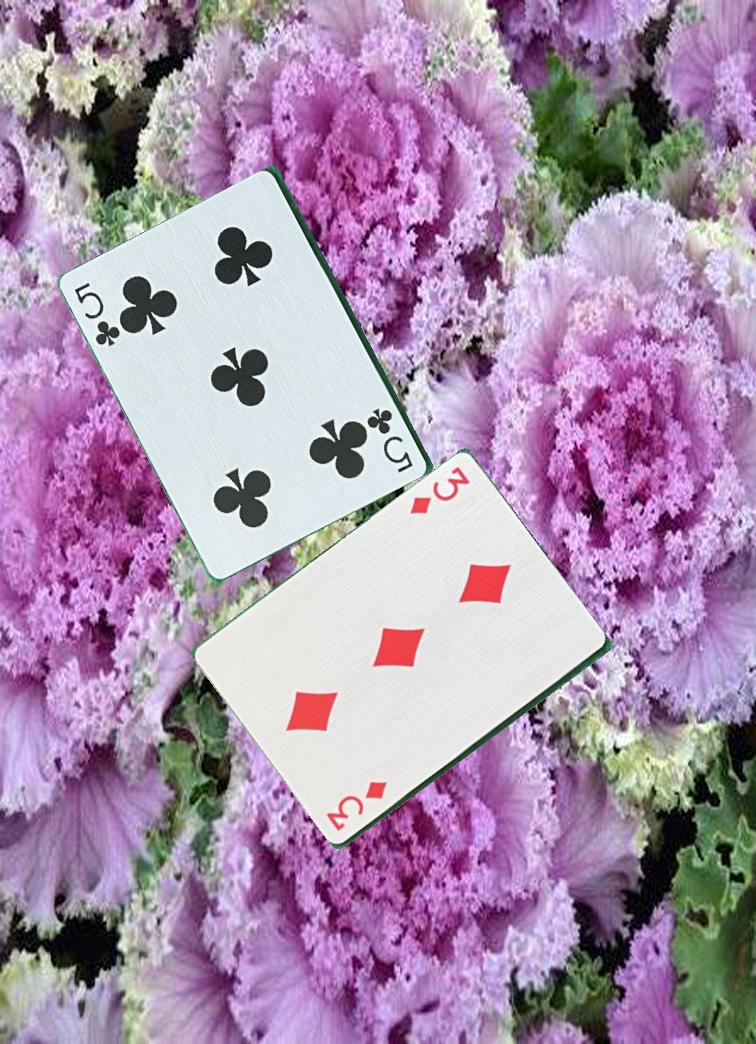3d: (324, 778, 391, 835), (406, 464, 473, 518)
5c: (70, 279, 123, 353), (364, 404, 416, 479)
